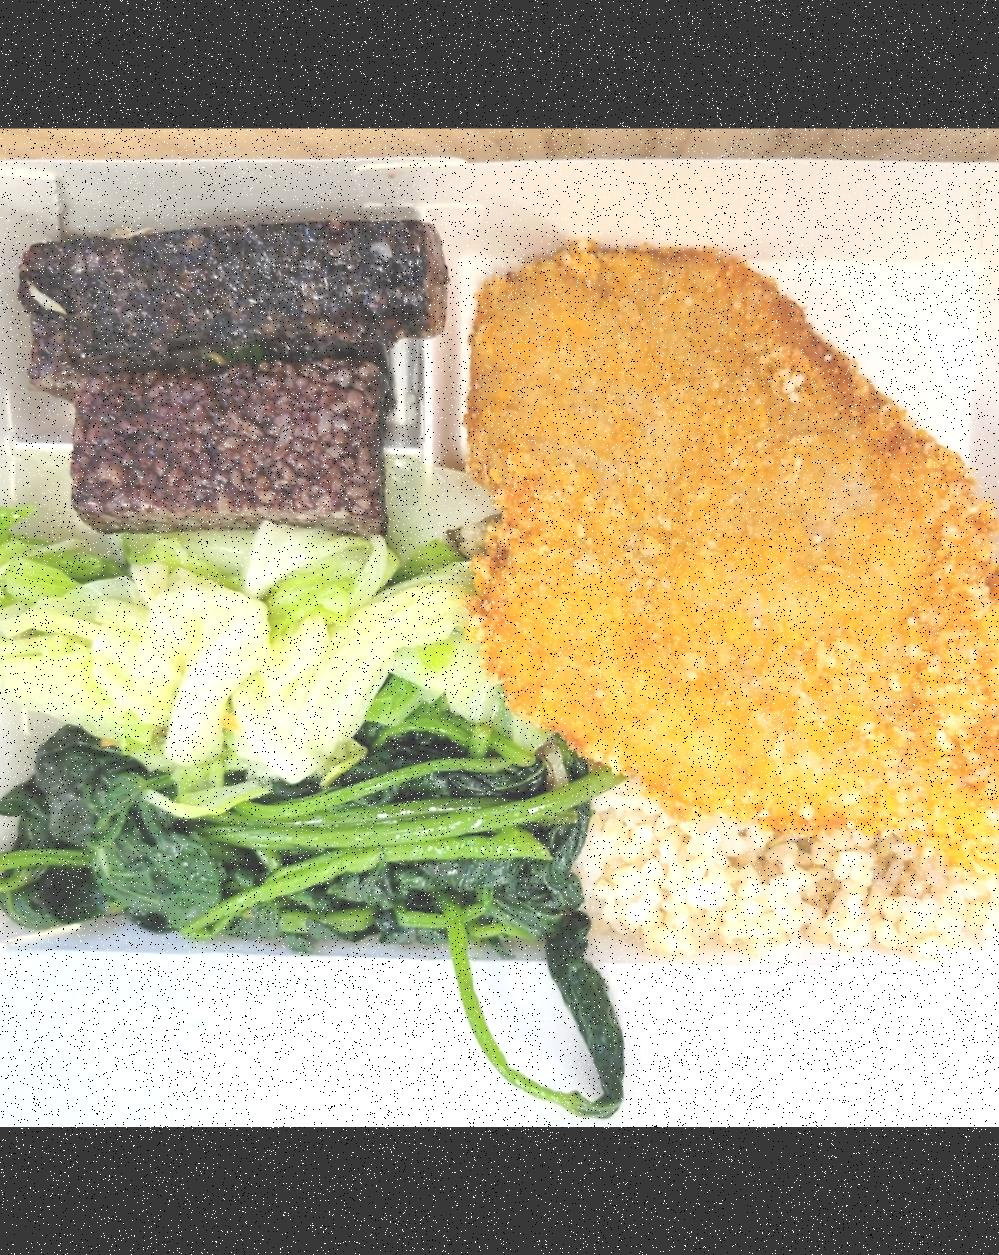big grilled chicken leg: (0, 136, 999, 1003)
box: (572, 771, 999, 963)
braised fish fillet: (3, 199, 467, 543), (0, 747, 616, 976), (0, 529, 496, 779)
braised pork: (461, 241, 999, 873)
